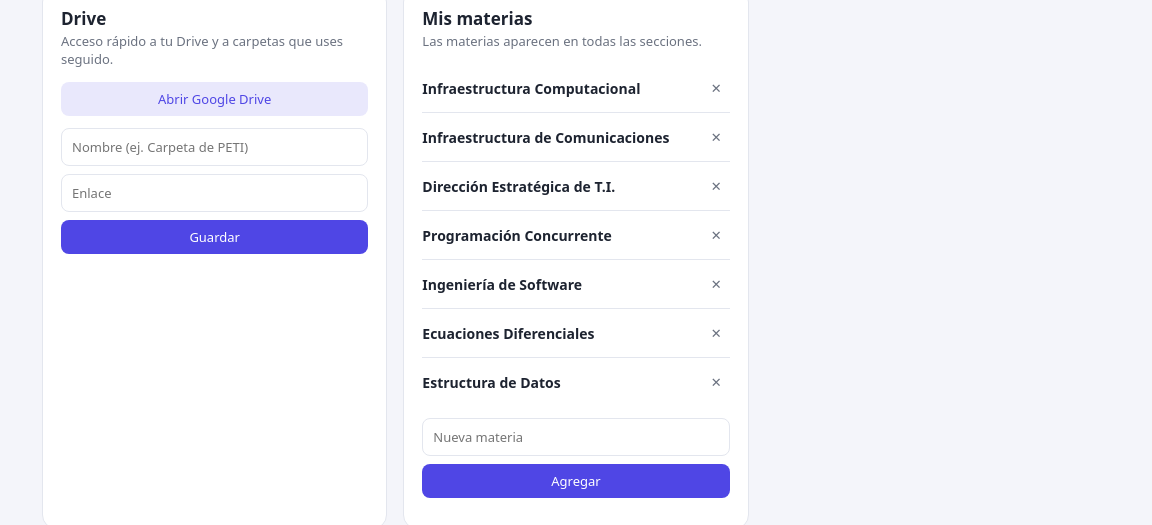
Avisos del almacén › muestra un mensaje si localStorage se llena al guardar, y el cambio sigue en pantalla
(page scrolled)
Type "Cálculo Integral" into the field with placeholder "Nueva materia".
click(576, 437); type("Cálculo Integral")  # box [422,418,730,456]
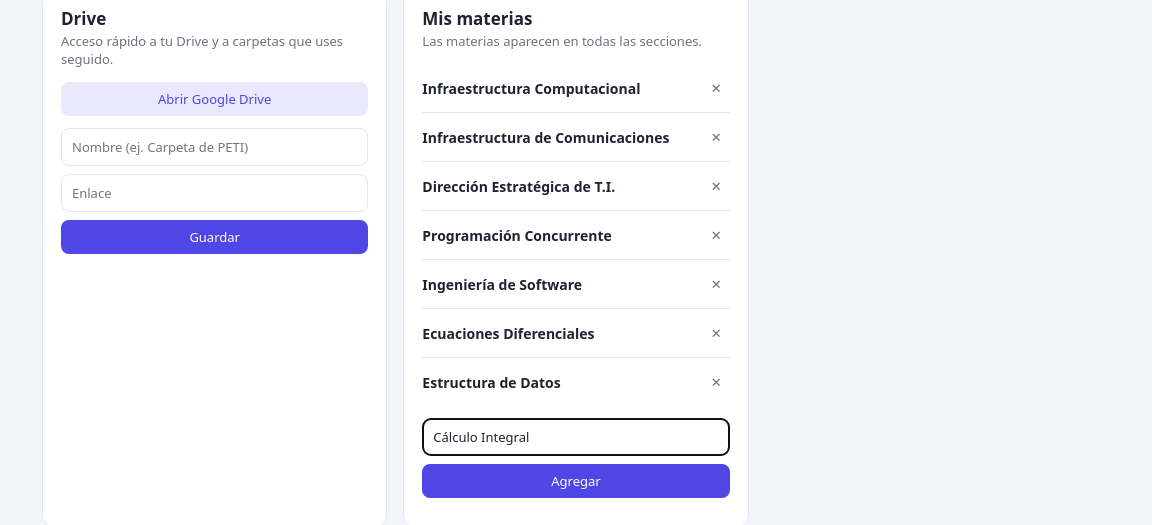
Click the button "Agregar".
click(576, 481)  # box [422,464,730,498]
(page scrolled)
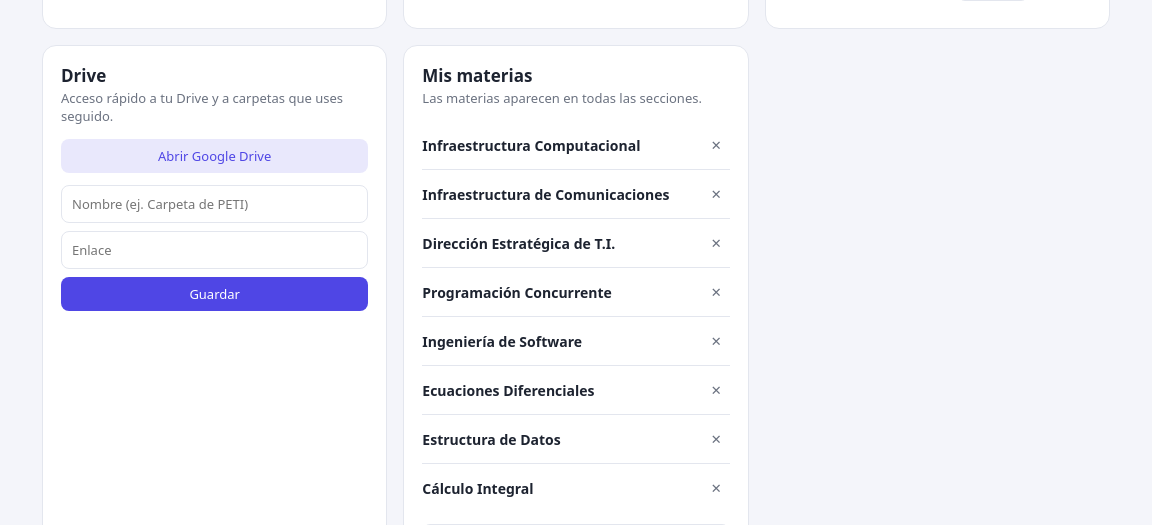
Now the 4th text "Cálculo Integral" is shown, box [422,478,534,498]
